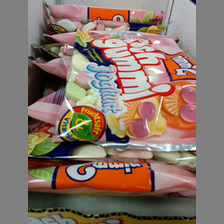candy: (53, 26, 196, 143)
